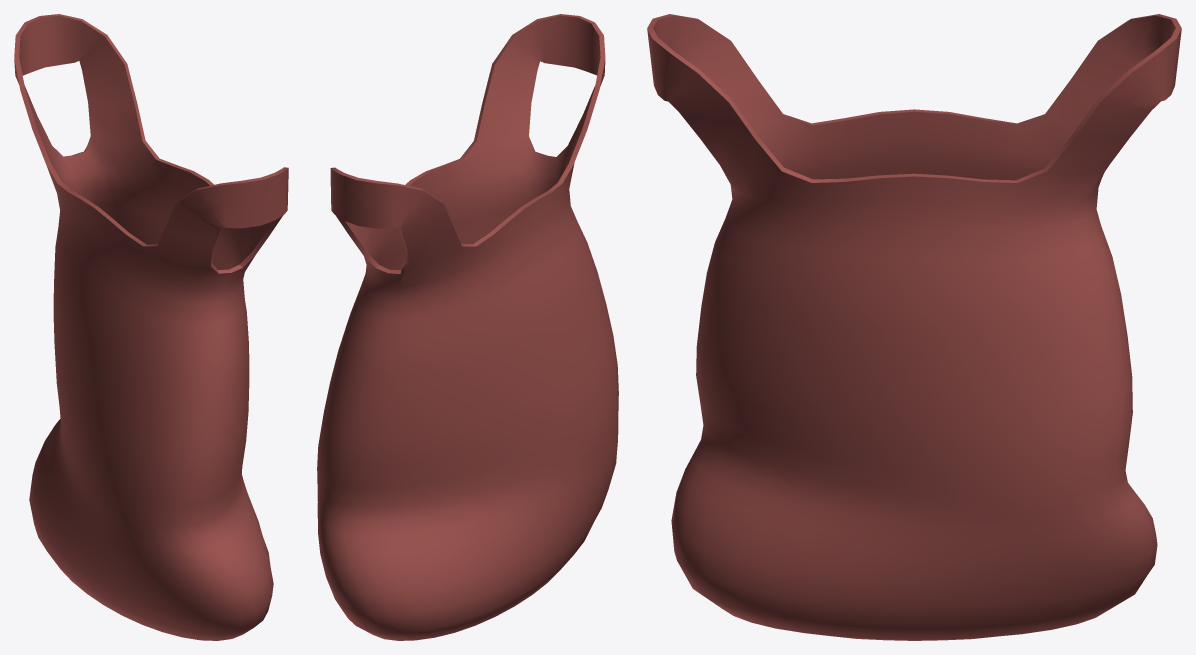
The model's file is BolsaPlastico_03.fbx.
3 renders of one model, left to right at view 1: azimuth 30°, elevation 25°; view 2: azimuth 150°, elevation 25°; view 3: azimuth 270°, elevation 25°, orthographic. The views are drawn at different scales.
Visible parts, largest first — view 1: BolsaPlastico_03; view 2: BolsaPlastico_03; view 3: BolsaPlastico_03.
Part boxes in pixels (<box>): BolsaPlastico_03: <box>14,14,288,640</box>; BolsaPlastico_03: <box>317,14,618,640</box>; BolsaPlastico_03: <box>647,14,1181,640</box>.
Size of the model in its own units: 33.06 by 89.34 by 73.48.
